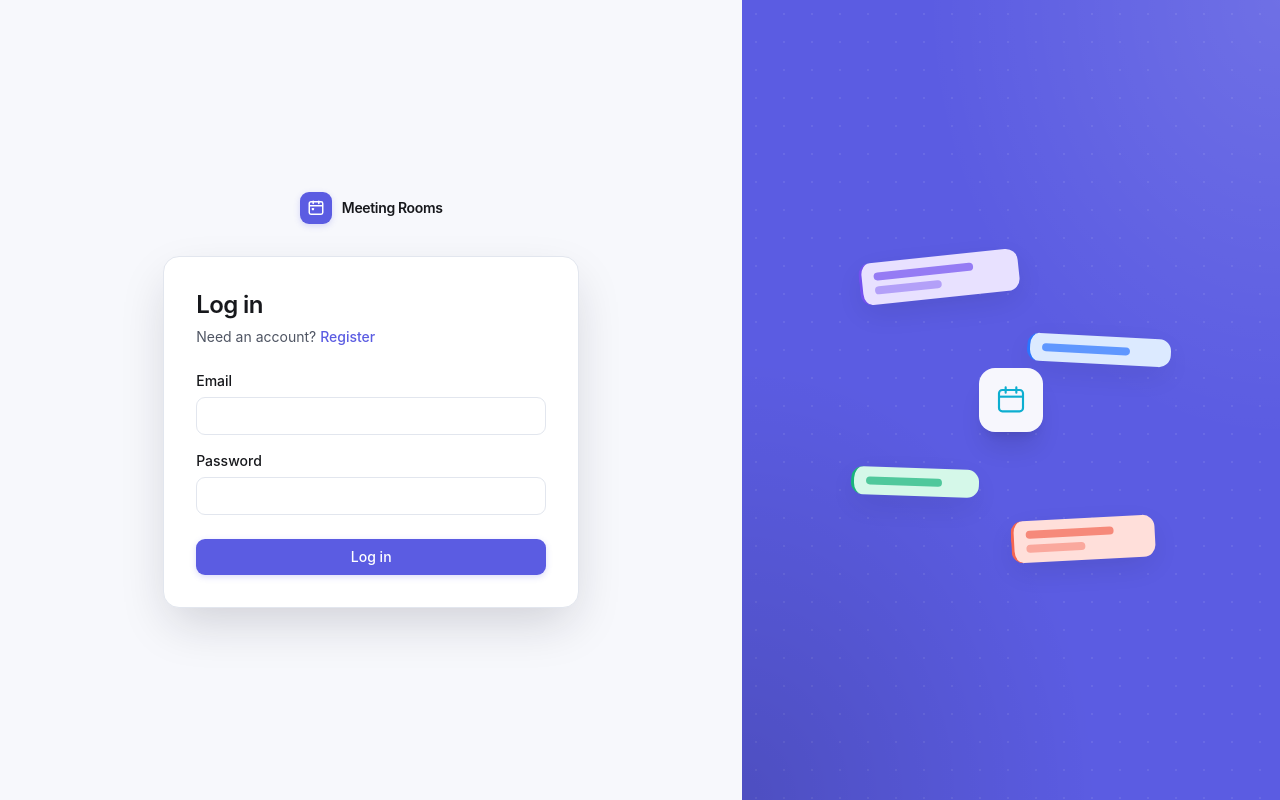
Test case: LoginPage field validation › clears the email error as soon as a value is typed, without resubmitting
Click the button "Log in": {"x": 371, "y": 557} 196,539 -> 546,575
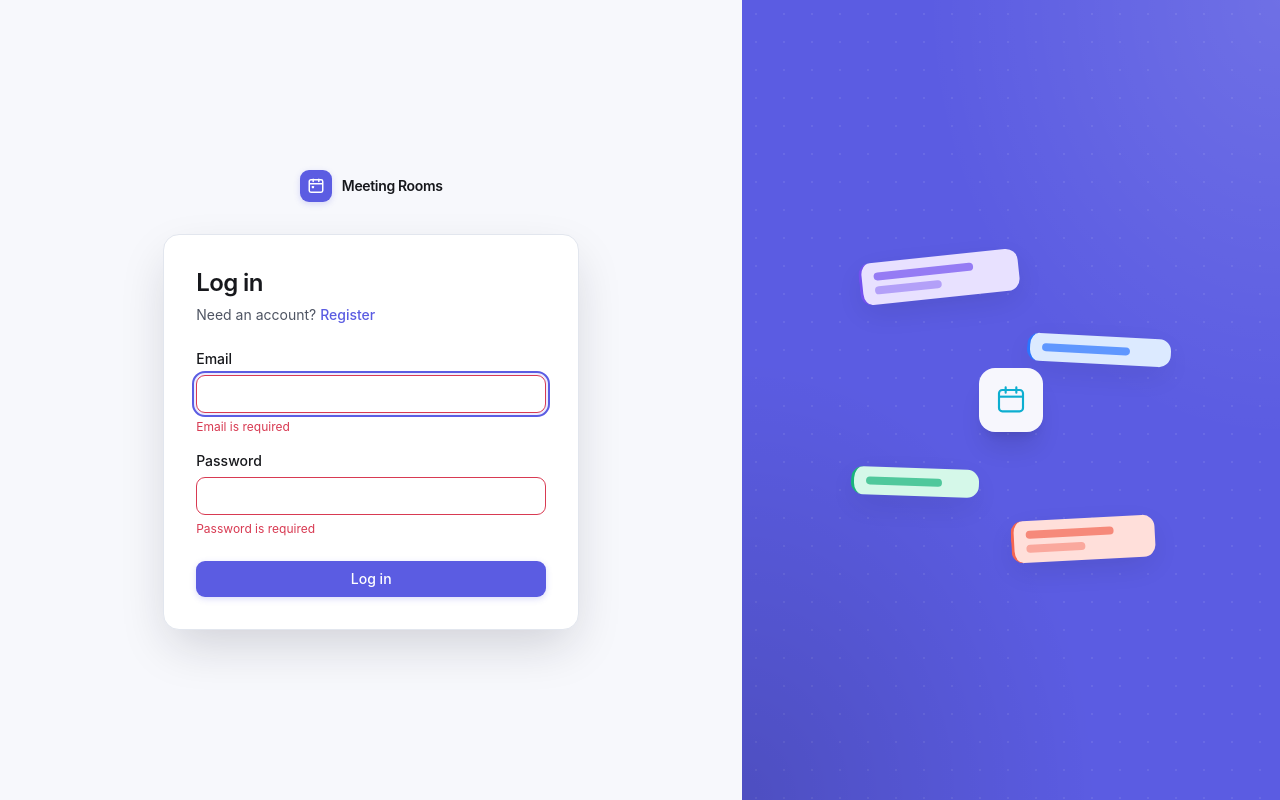
expect the text "Email is required" is shown: met, box 196,419 -> 290,434
In the field labelled "Email": {"x": 371, "y": 394} 196,375 -> 546,413, type "alice@example.com"
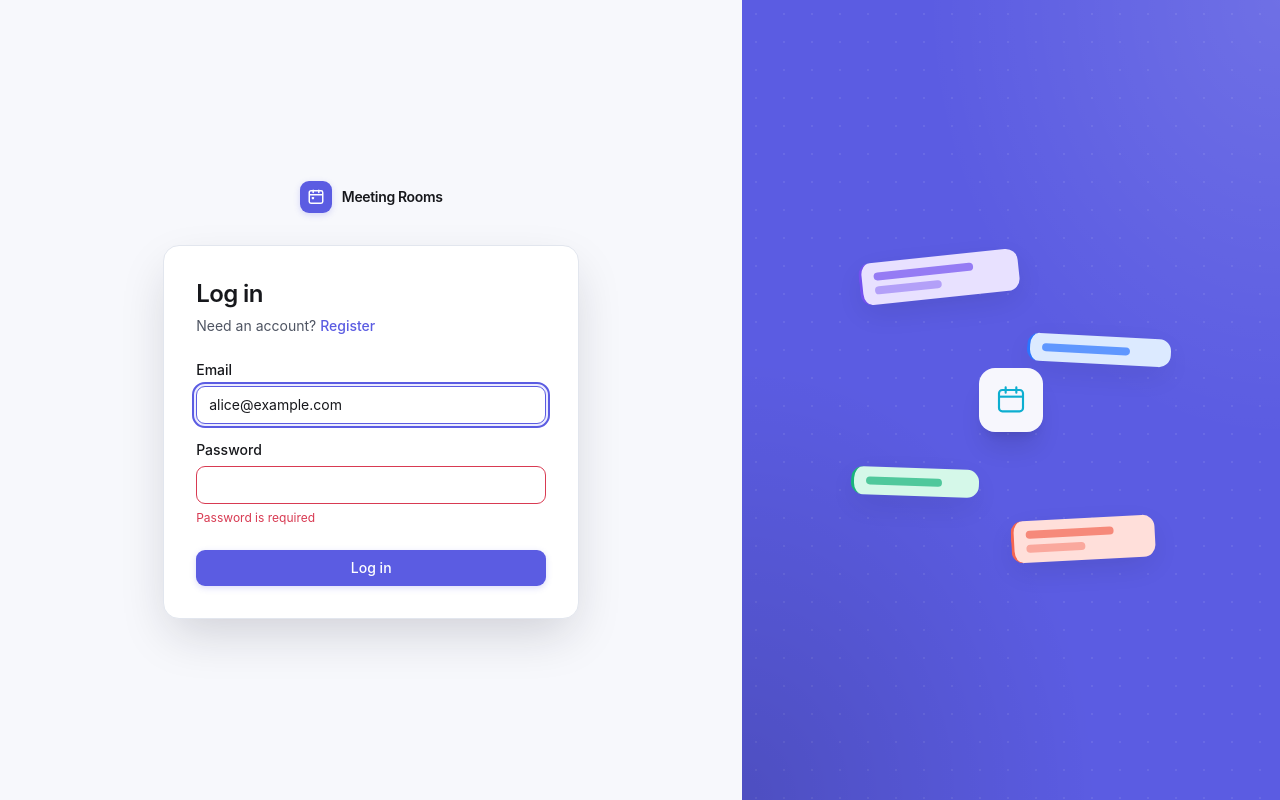
expect the text "Email is required" is gone: met
